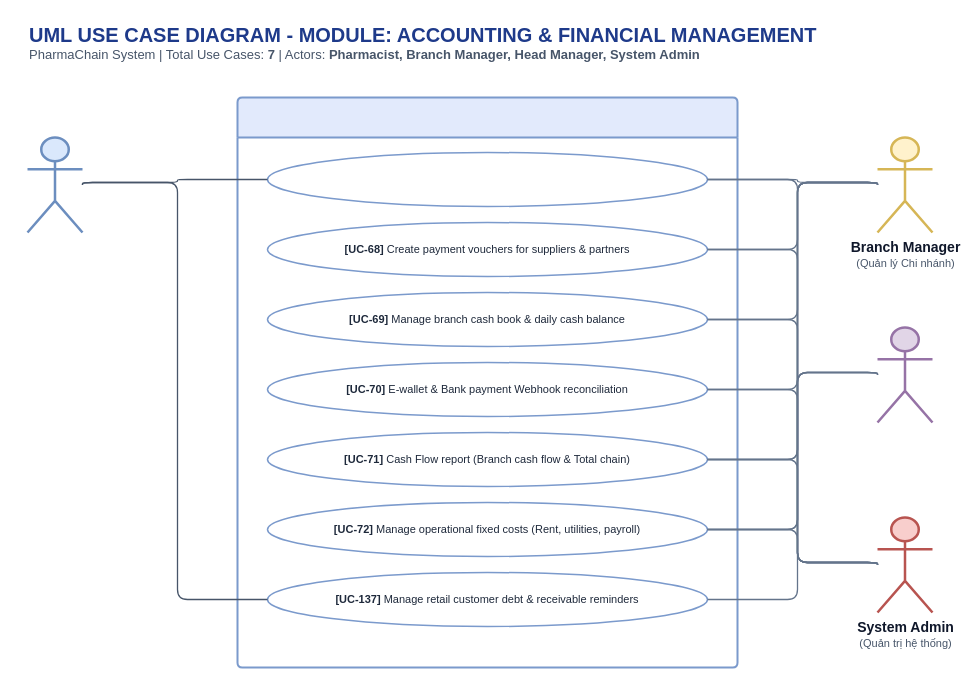
The diagram is 977 pixels wide and 685 high, and some of its shapes have lost their labels. Each missing label, with the box of its shape:
[UC-67] Create automatic cash / bank transfer receipts: (266, 151, 708, 207)
ACCOUNTING & FINANCIAL MANAGEMENT SUBSYSTEM: (236, 96, 738, 668)
Head Manager (Quản lý Chuỗi/Tổng): (876, 326, 933, 423)
Pharmacist (Dược sĩ): (26, 136, 83, 233)
